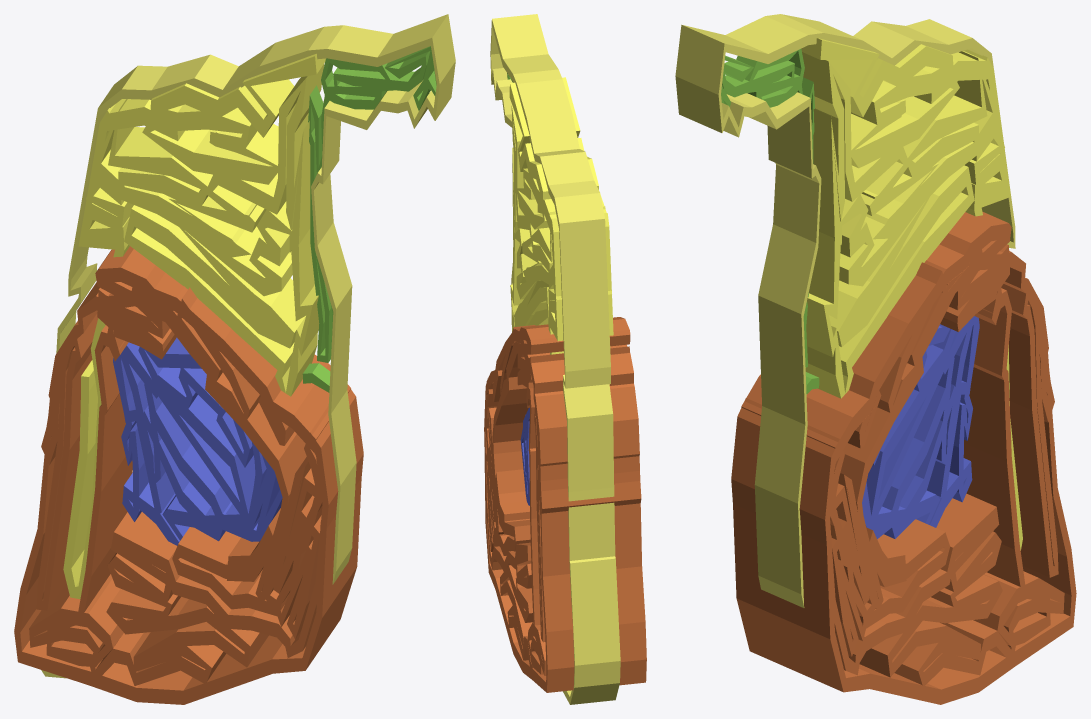
The picture shows the model from 3 angles, left to right: view 1: azimuth 30°, elevation 25°; view 2: azimuth 150°, elevation 25°; view 3: azimuth 270°, elevation 25°; orthographic projection. The views are drawn at different scales.
Visible parts, largest first — view 1: 6; view 2: 6; view 3: 6.
Boxes of the visible parts, x1,y1,x2,y2 form: 6: (14,14,455,704); 6: (484,14,646,704); 6: (675,14,1076,704).
Size of the model in its own units: 0.4951 by 1.02 by 0.5071.
